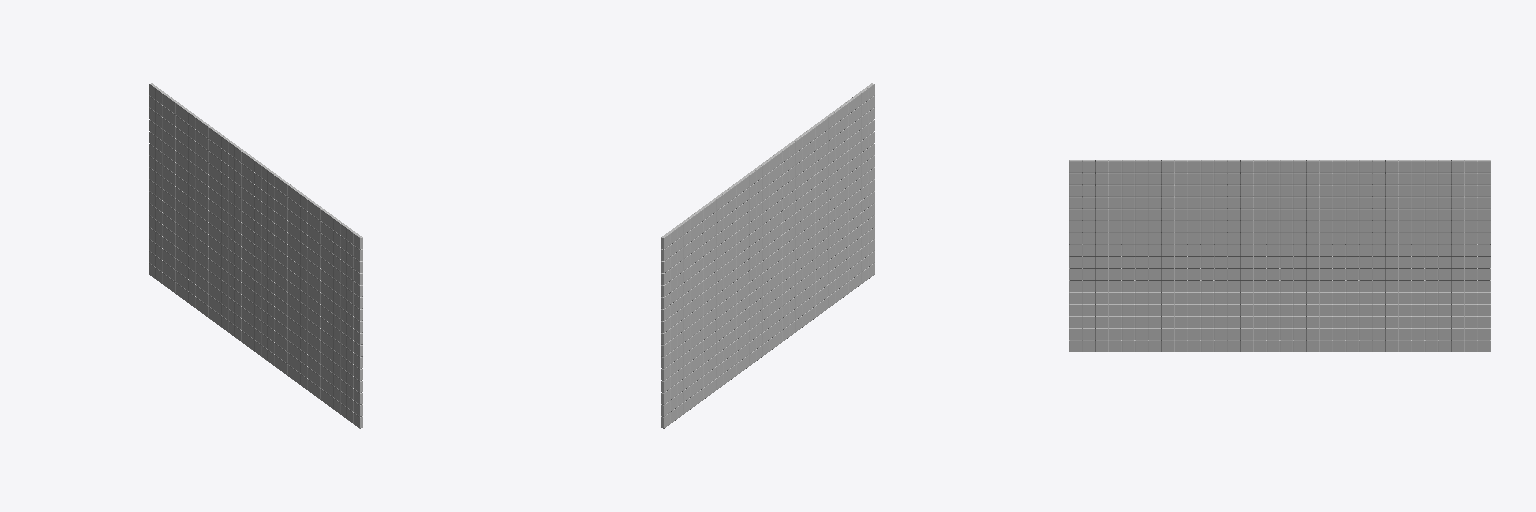
Rendered from boundarywall.obj.
3 renders of one model, left to right at view 1: azimuth 30°, elevation 25°; view 2: azimuth 150°, elevation 25°; view 3: azimuth 270°, elevation 25°, orthographic.
Visible parts, largest first — view 1: Cube.017; view 2: Cube.017; view 3: Cube.017.
Part boxes in pixels (bbox=[...]): Cube.017: bbox=[149, 83, 362, 428]; Cube.017: bbox=[661, 83, 874, 428]; Cube.017: bbox=[1069, 160, 1490, 351].
Size of the model in its own units: 0.125 by 8 by 16.